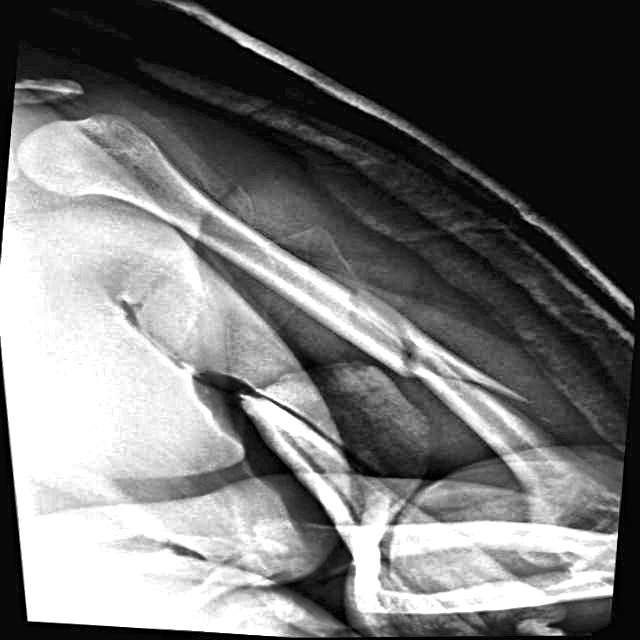Spiral: (304, 272, 547, 412)
